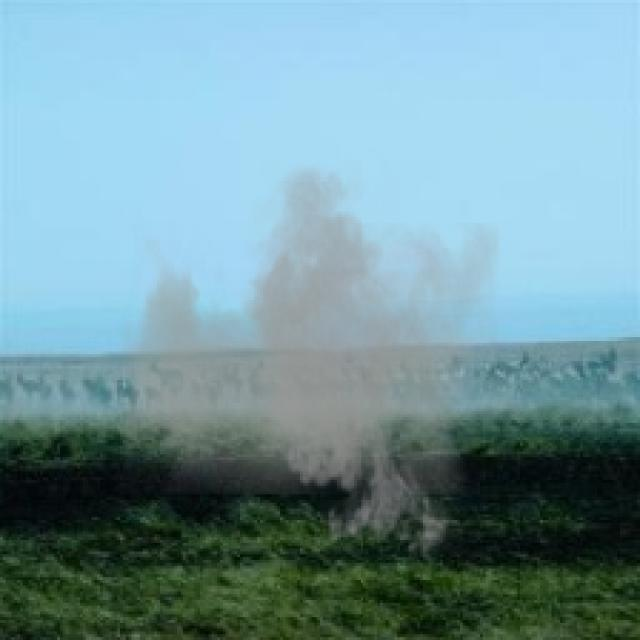smoke: (117, 148, 500, 568)
